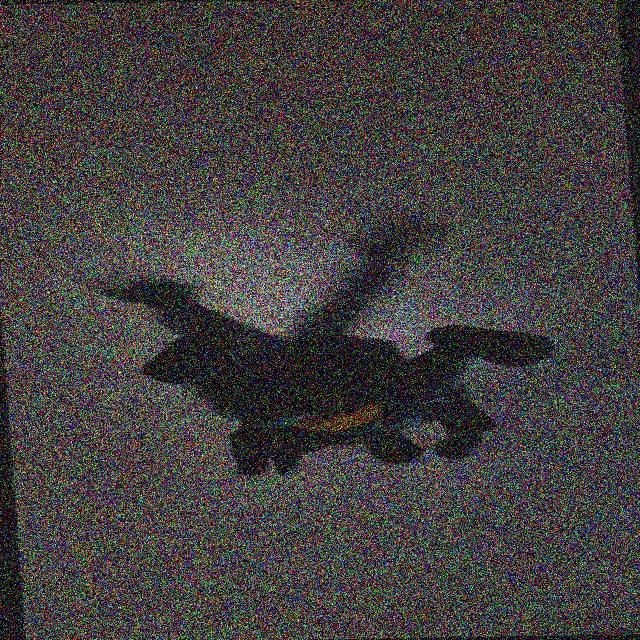Batman: (135, 324, 560, 483)
